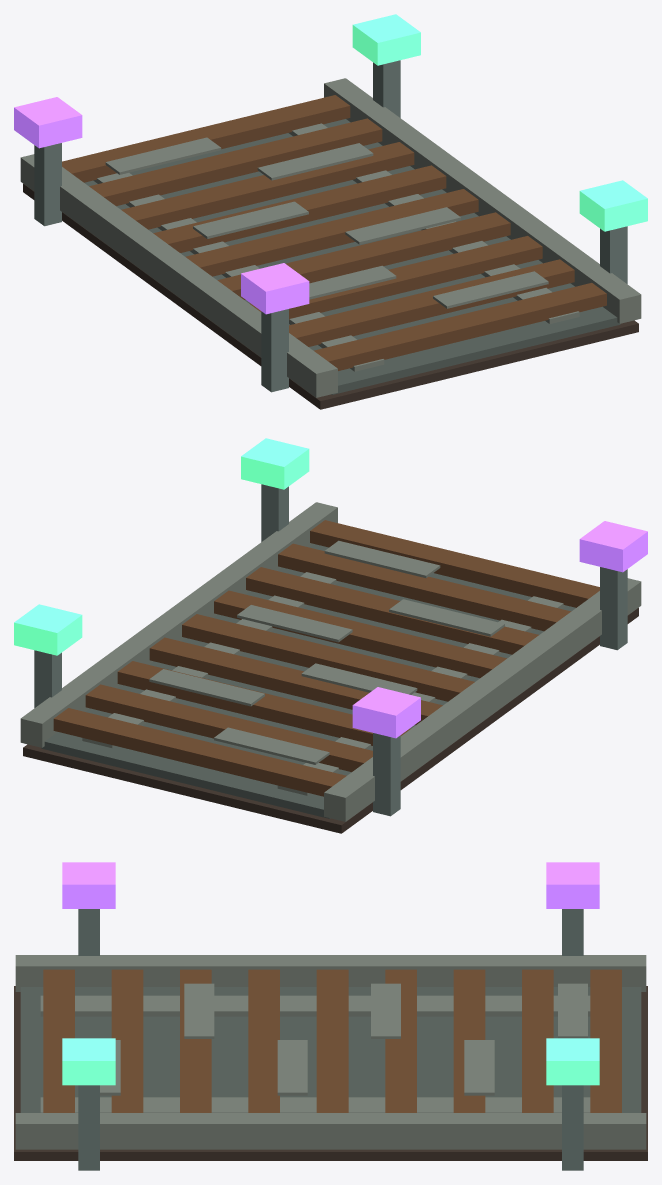
Rendered from supply_route_l03.glb.
3 renders of one model, top to bottom at view 1: azimuth 30°, elevation 25°; view 2: azimuth 150°, elevation 25°; view 3: azimuth 270°, elevation 25°, orthographic. The views are drawn at different scales.
Parts seen in each view (by area): view 1: supply_route_l03; view 2: supply_route_l03; view 3: supply_route_l03.
Part boxes in pixels (x1,y1,x2,y2): supply_route_l03: [14, 14, 647, 409]; supply_route_l03: [14, 438, 647, 833]; supply_route_l03: [14, 862, 647, 1170].
Bounding box in the file's own units: 2.82 × 0.77 × 3.8.
